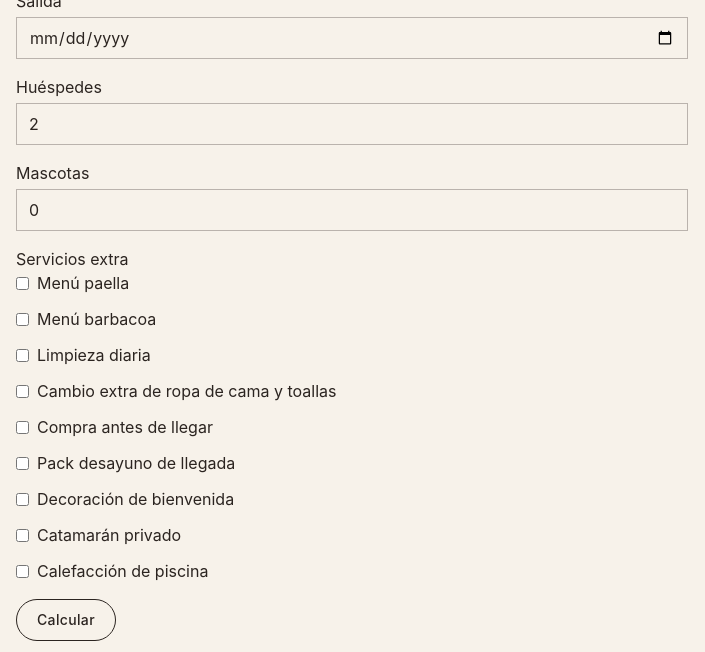
página /dev/cotizador › envía al cliente todos los textos que usa el cotizador (sin MISSING_MESSAGE)
(page scrolled)
Click the checkbox labelled "Pack desayuno de llegada": (22, 463) [16,457,29,470]
(page scrolled)
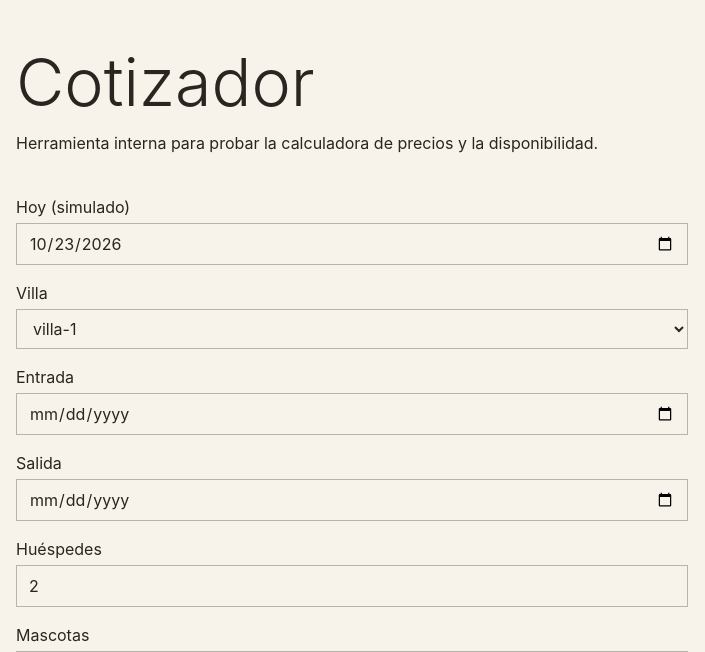
Select "villa-3" in the dropdown labelled "Villa": (352, 329) [16,309,688,349]
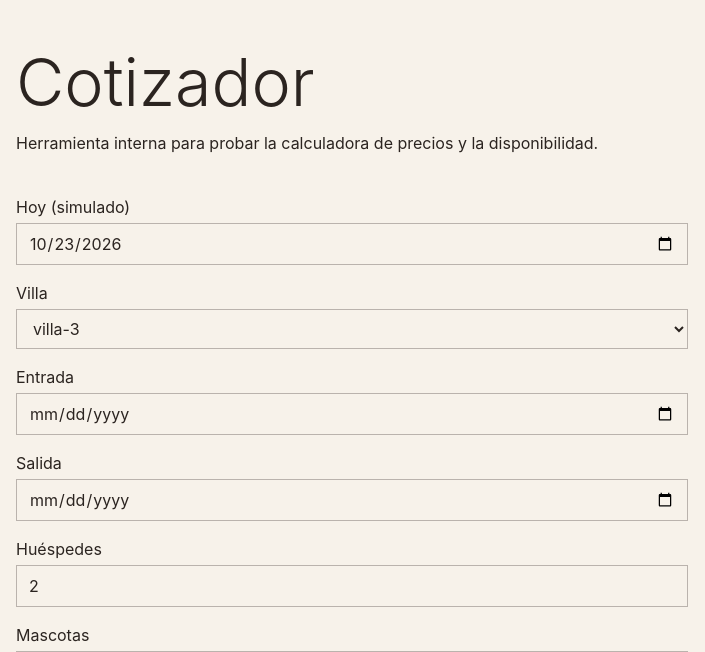
In the date field labelled "Entrada": (352, 414) [16,393,688,435], type "2027-07-10"
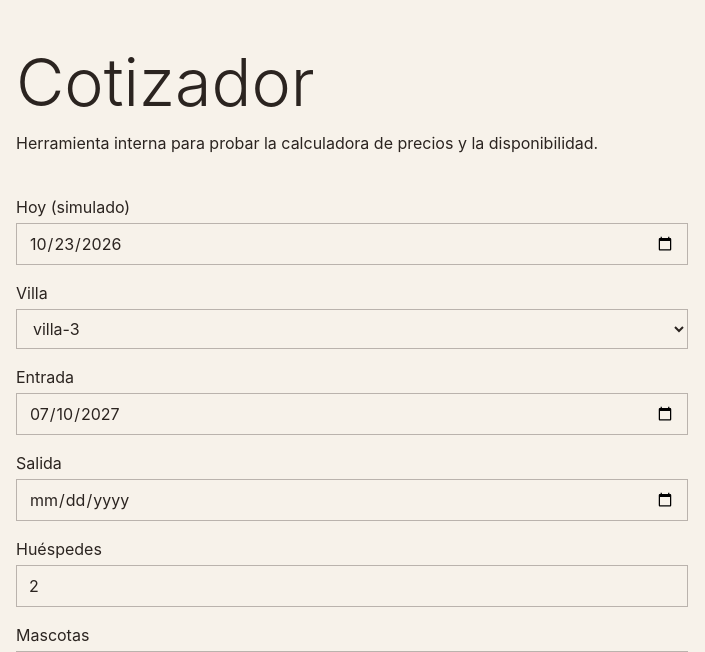
In the date field labelled "Salida": (352, 500) [16,479,688,521], type "2027-07-13"
(page scrolled)
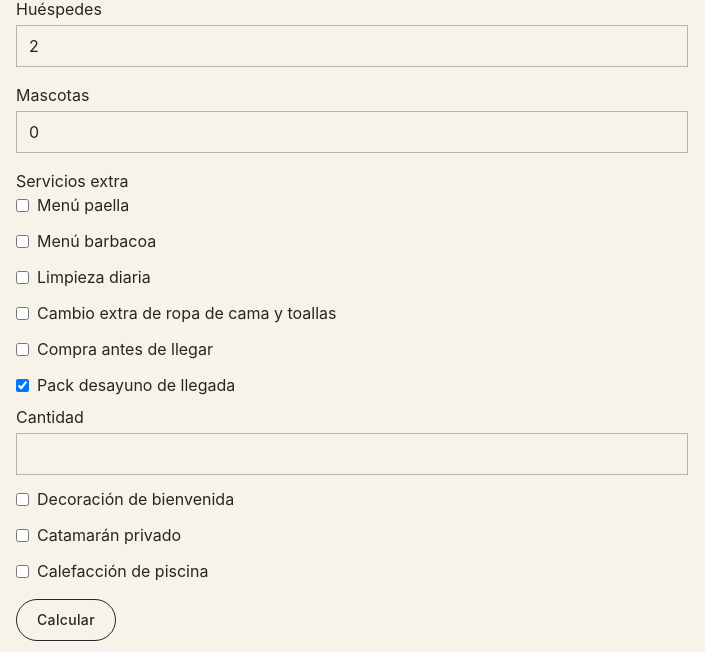
Click the button "Calcular": (66, 620) [16,599,116,641]
(page scrolled)
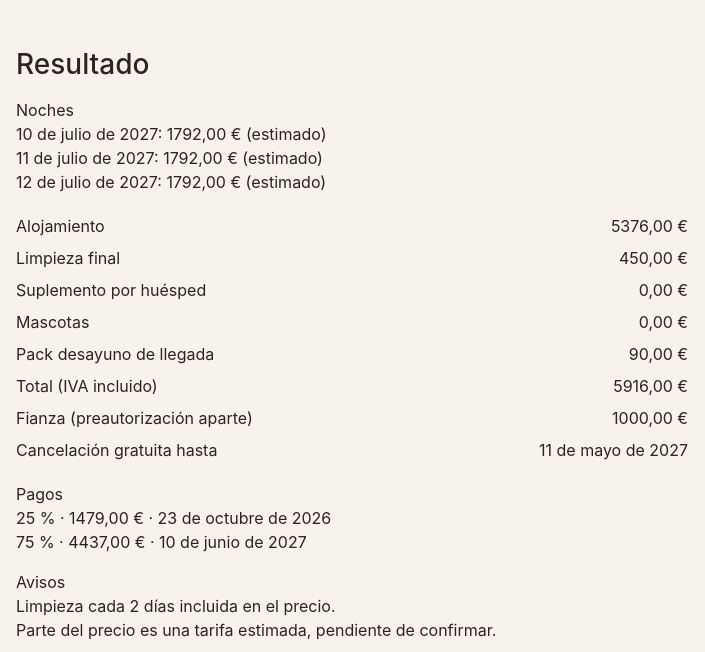
Expected: the element "Resultado" is shown
